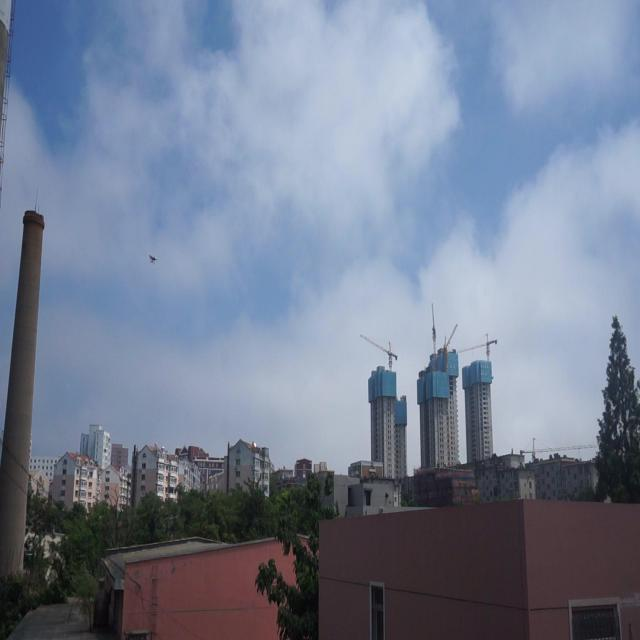UAV: (147, 253, 157, 265)
